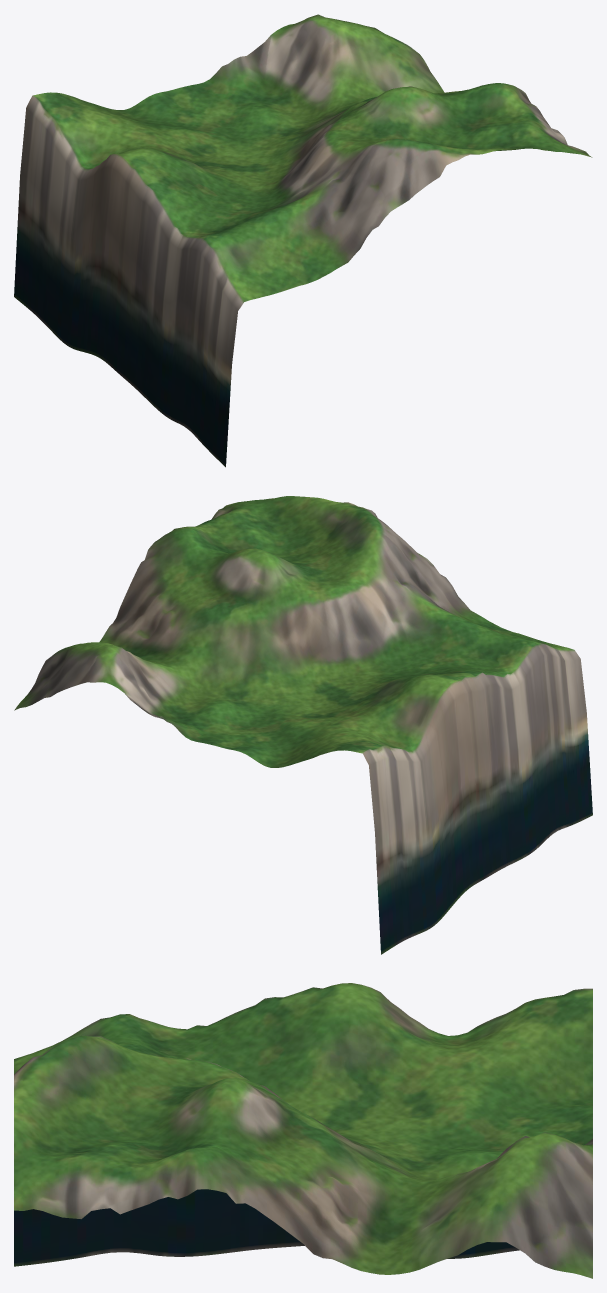
3 renders of one model, top to bottom at view 1: azimuth 30°, elevation 25°; view 2: azimuth 150°, elevation 25°; view 3: azimuth 270°, elevation 25°, orthographic. The views are drawn at different scales.
Parts seen in each view (by area): view 1: t000_128; view 2: t000_128; view 3: t000_128.
Part boxes in pixels (x1=…): t000_128: x1=14, y1=14, x2=592, y2=467; t000_128: x1=14, y1=496, x2=592, y2=954; t000_128: x1=14, y1=983, x2=592, y2=1278.
Size of the model in its own units: 64 by 43.78 by 64.
1 material, 1 textured.
